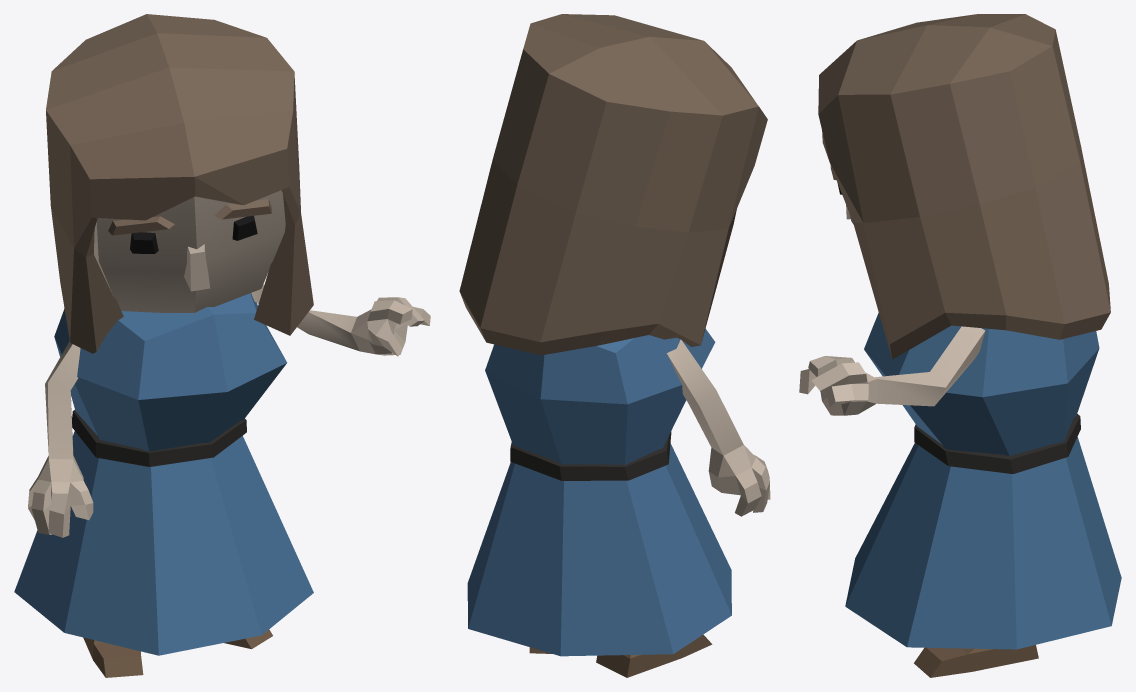
Rendered from femme-2.glb.
3 renders of one model, left to right at view 1: azimuth 30°, elevation 25°; view 2: azimuth 150°, elevation 25°; view 3: azimuth 270°, elevation 25°, orthographic.
Visible parts, largest first — view 1: PeasantGirl_GEO_CharTxt_MAT_0; view 2: PeasantGirl_GEO_CharTxt_MAT_0; view 3: PeasantGirl_GEO_CharTxt_MAT_0.
Boxes of the visible parts, box(x1,y1,x2,y2) form: PeasantGirl_GEO_CharTxt_MAT_0: box(14, 14, 430, 677); PeasantGirl_GEO_CharTxt_MAT_0: box(459, 14, 770, 677); PeasantGirl_GEO_CharTxt_MAT_0: box(799, 14, 1121, 677).
Size of the model in its own units: 0.8039 by 1.35 by 0.6479.
Materials: 1 (1 with a texture image).
